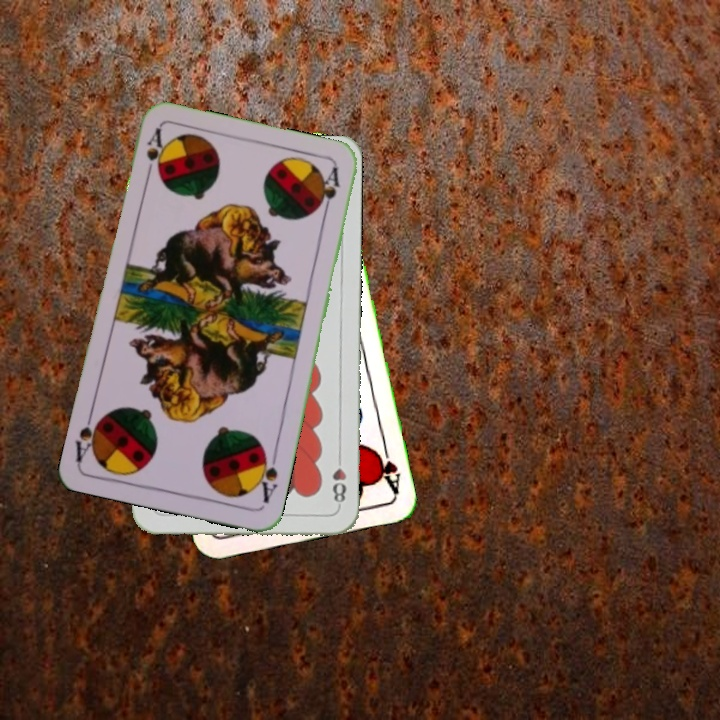H8: (328, 450, 349, 509)
HA: (371, 438, 404, 497)
SA: (252, 447, 280, 506), (142, 124, 167, 183)
